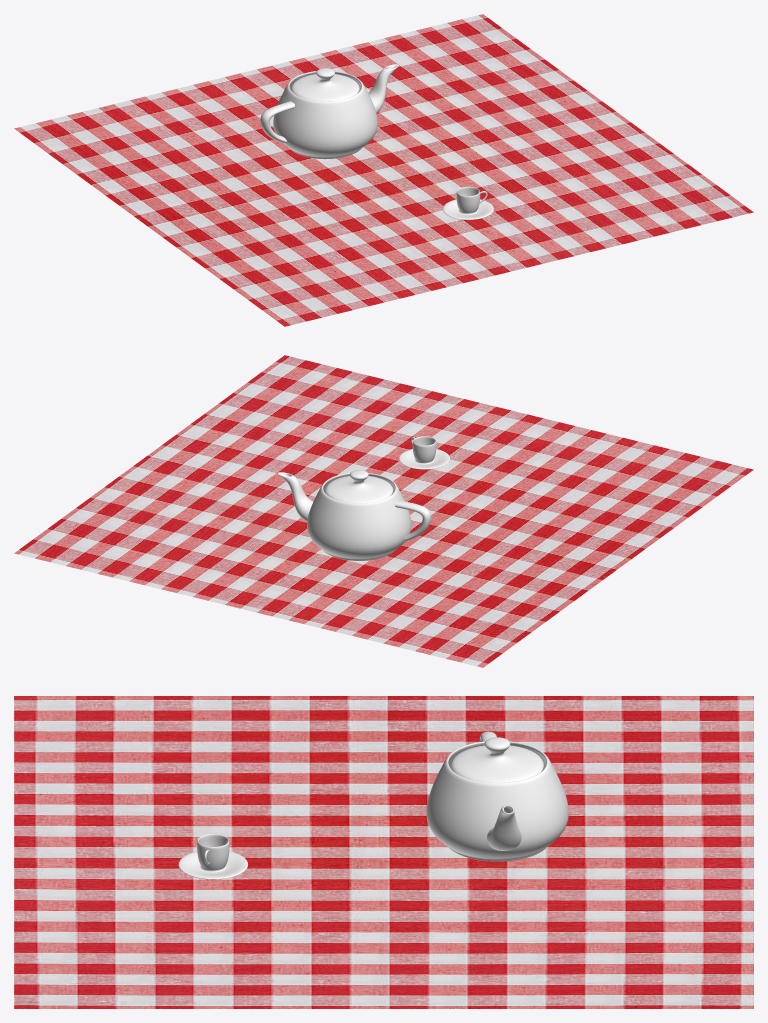
The model's file is LensTest.obj.
The picture shows the model from 3 angles, top to bottom: view 1: azimuth 30°, elevation 25°; view 2: azimuth 150°, elevation 25°; view 3: azimuth 270°, elevation 25°; orthographic projection. The views are drawn at different scales.
Parts seen in each view (by area): view 1: Plane.001, teapot, teacup; view 2: Plane.001, teapot, teacup; view 3: Plane.001, teapot, teacup.
Part boxes in pixels (<box>): Plane.001: <box>14,14,753,326</box>; teapot: <box>260,64,398,159</box>; teacup: <box>443,186,493,219</box>; Plane.001: <box>14,355,753,667</box>; teapot: <box>277,470,431,560</box>; teacup: <box>399,436,449,469</box>; Plane.001: <box>14,696,753,1008</box>; teapot: <box>426,731,568,861</box>; teacup: <box>178,834,247,879</box>.
Size of the model in its own units: 20.76 by 3.15 by 20.76.
